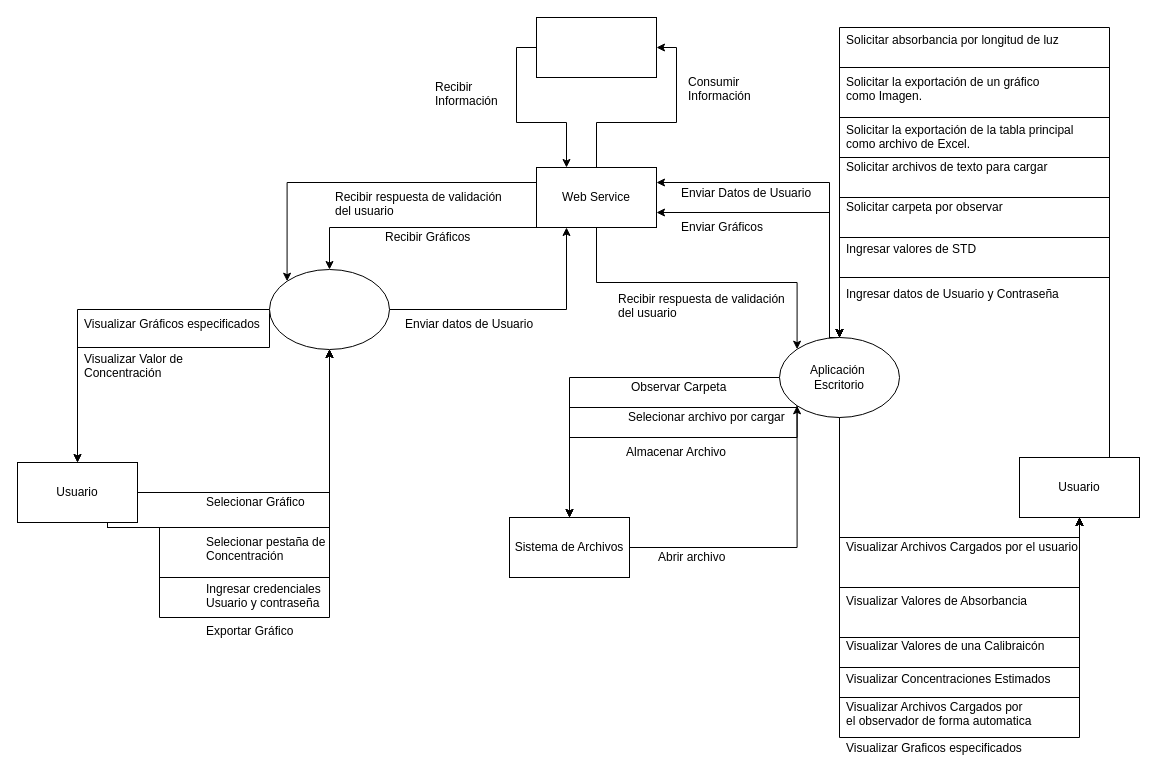
This 1157x776 diagram has some shape labels left out. Each missing label, with the centre of its shape:
"Aplicación Móvil" belongs at (x=329, y=309).
"Base de Datos" belongs at (x=596, y=47).
